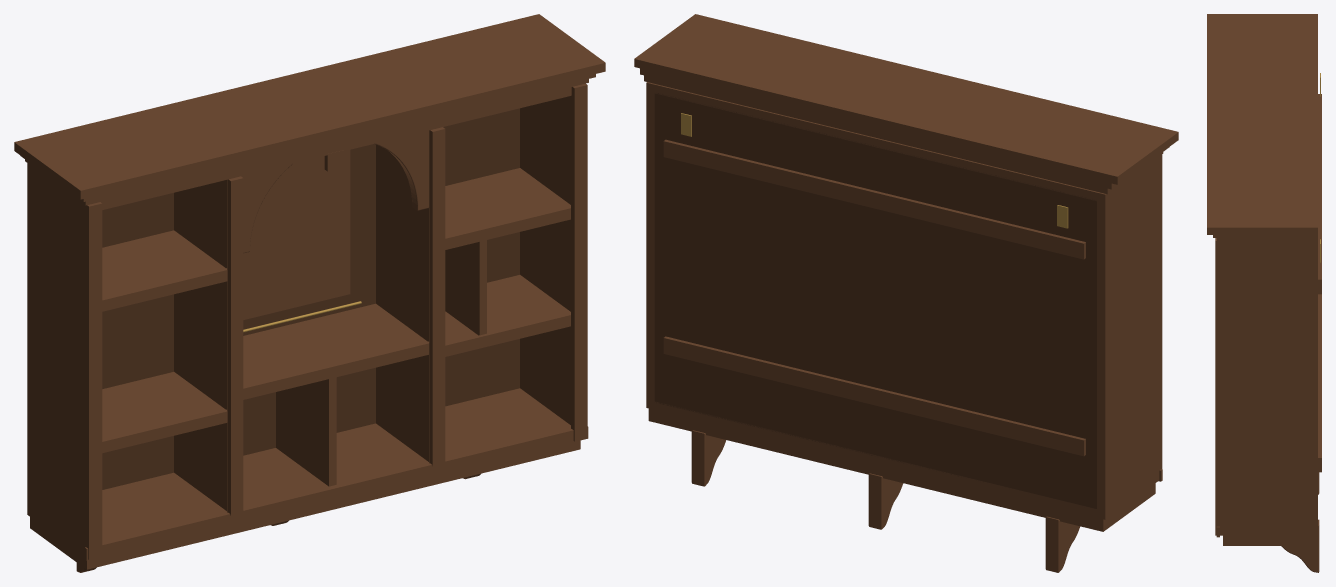
File: bookshelf_wood_architectural.glb
3 renders of one model, left to right at view 1: azimuth 30°, elevation 25°; view 2: azimuth 150°, elevation 25°; view 3: azimuth 270°, elevation 25°, orthographic. The views are drawn at different scales.
Visible parts, largest first — view 1: object 1, object 13, object 11, object 5, object 36, object 18, object 19, object 12, object 28, object 6, object 20, object 21 (+18 smaller); view 2: object 13, object 1, object 11, French_Cleat_Rail_1, French_Cleat_Rail_2, object 7, object 4, object 5, object 2, object 3, object 12, Wall_Corbel_2 (+3 smaller); view 3: object 12, object 1, object 21, object 7, object 5, object 4, French_Cleat_Rail_1, French_Cleat_Rail_2, Wall_Corbel_3, object 3, object 2.
Boxes of the visible parts, x1,y1,x2,y2 form: object 1: [14, 14, 605, 199]; object 13: [102, 108, 519, 489]; object 11: [27, 171, 86, 547]; object 5: [27, 388, 570, 556]; object 36: [243, 150, 350, 319]; object 18: [174, 180, 227, 511]; object 19: [376, 144, 429, 461]; object 12: [520, 96, 570, 424]; object 28: [243, 303, 427, 386]; object 6: [84, 426, 588, 560]; object 20: [85, 202, 102, 559]; object 21: [571, 83, 587, 441]; object 13: [654, 93, 1096, 508]; object 1: [634, 14, 1178, 184]; object 11: [1097, 164, 1159, 510]; French_Cleat_Rail_1: [663, 139, 1085, 259]; French_Cleat_Rail_2: [663, 336, 1085, 456]; object 7: [648, 408, 1155, 531]; object 4: [646, 82, 1158, 203]; object 5: [646, 399, 1158, 519]; object 2: [640, 68, 1169, 189]; object 3: [644, 75, 1163, 194]; object 12: [646, 91, 654, 400]; Wall_Corbel_2: [868, 473, 903, 529]; object 12: [1220, 249, 1317, 527]; object 1: [1207, 14, 1317, 234]; object 21: [1215, 238, 1220, 535]; object 7: [1223, 535, 1317, 545]; object 5: [1220, 527, 1317, 535]; object 4: [1220, 241, 1317, 248]; French_Cleat_Rail_1: [1318, 94, 1321, 294]; French_Cleat_Rail_2: [1318, 294, 1321, 472]; Wall_Corbel_3: [1281, 519, 1319, 572]; object 3: [1217, 238, 1317, 241]; object 2: [1213, 235, 1317, 237].
Bounding box in the file's own units: 1.75 × 1.42 × 0.397.
